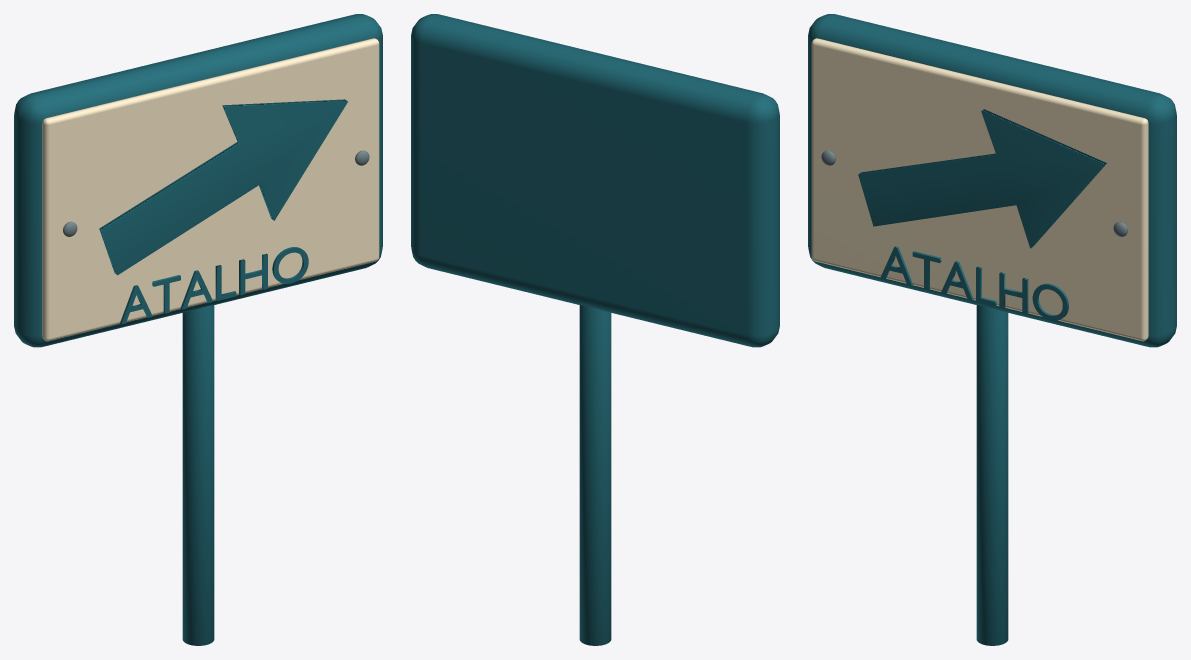
Rendered from race_sign_route_mobile.glb.
3 renders of one model, left to right at view 1: azimuth 30°, elevation 25°; view 2: azimuth 150°, elevation 25°; view 3: azimuth 330°, elevation 25°, orthographic.
Parts seen in each view (by area): view 1: race_sign_route; view 2: race_sign_route; view 3: race_sign_route.
Part boxes in pixels (bbox=[...]): race_sign_route: bbox=[14, 14, 382, 645]; race_sign_route: bbox=[411, 14, 779, 645]; race_sign_route: bbox=[808, 14, 1176, 645].
Bounding box in the file's own units: 2.35 × 3.62 × 0.355.
